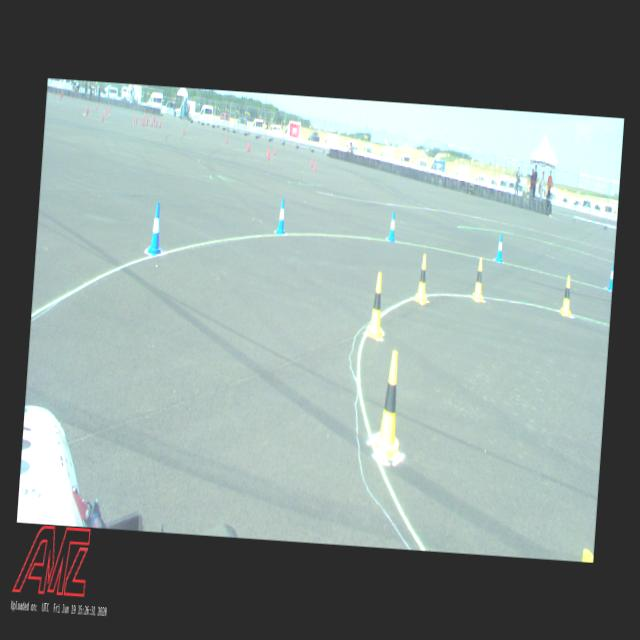blue_cone: (148, 201, 164, 254), (276, 197, 286, 235), (387, 212, 396, 242), (496, 234, 504, 262), (608, 262, 614, 289)
yellow_cone: (374, 350, 404, 458), (367, 272, 386, 336), (414, 253, 429, 304), (472, 257, 484, 301), (560, 275, 573, 315)
